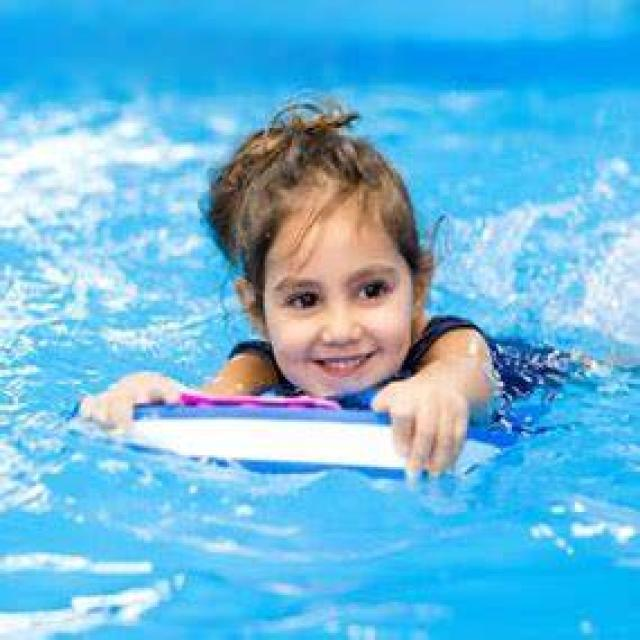Swimming: (76, 107, 638, 480)
